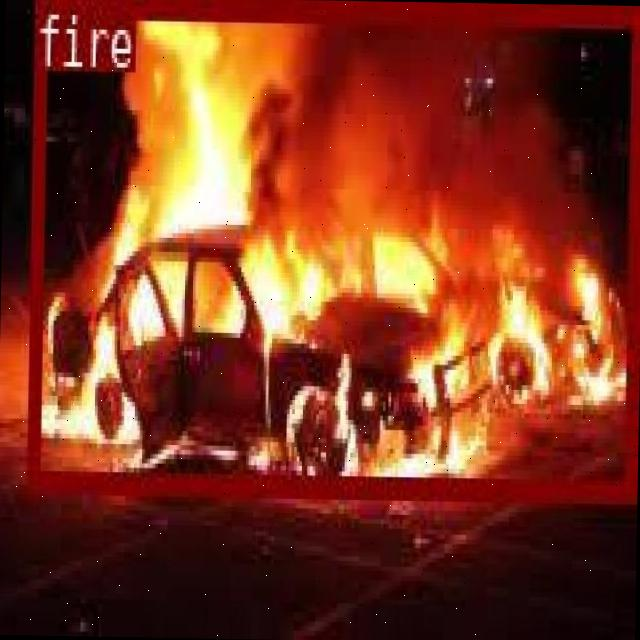fire: (26, 0, 639, 494)
